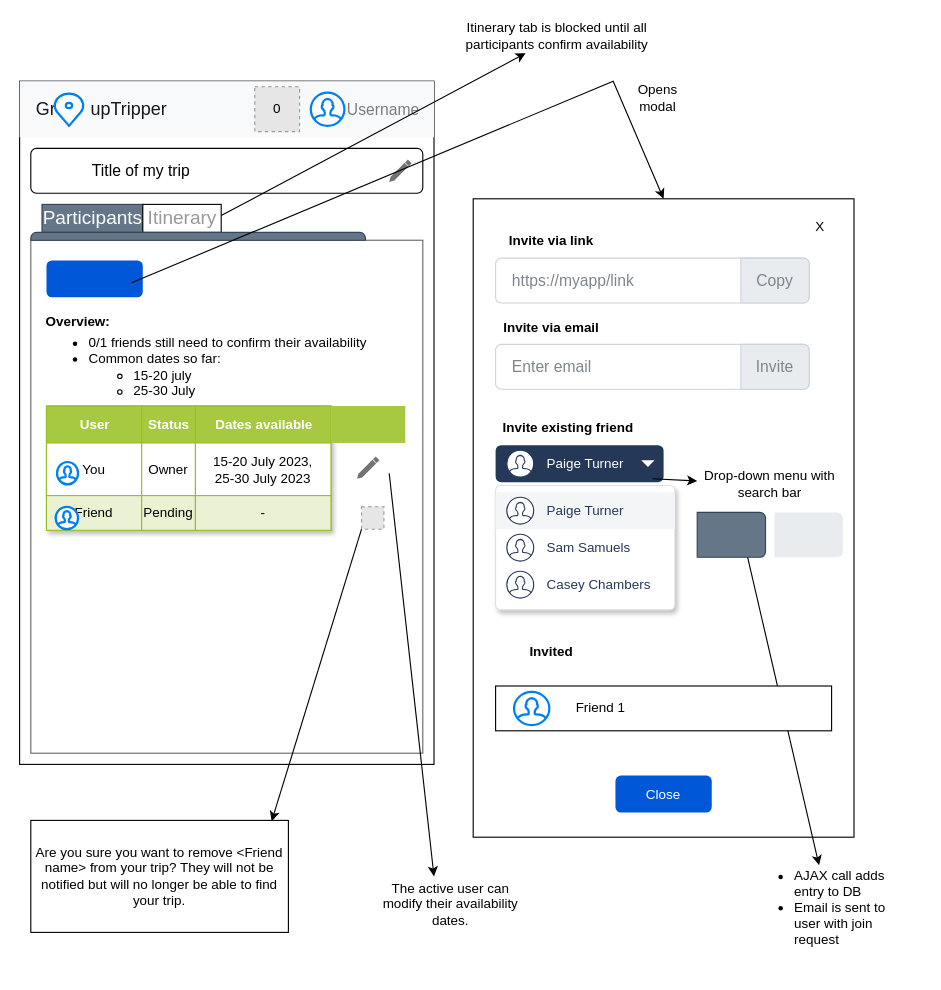
This 941x990 diagram has some shape labels left out. Grey dashed boxes stand in for pictures. The shapes that lost their labels are listed below. From the top down, each one's centre as x and y in pixels, then its label:
At [94,278]: "Add friend".
At [368,423]: "Action".
At [731,534]: "Add".
At [808,534]: "Cancel".
